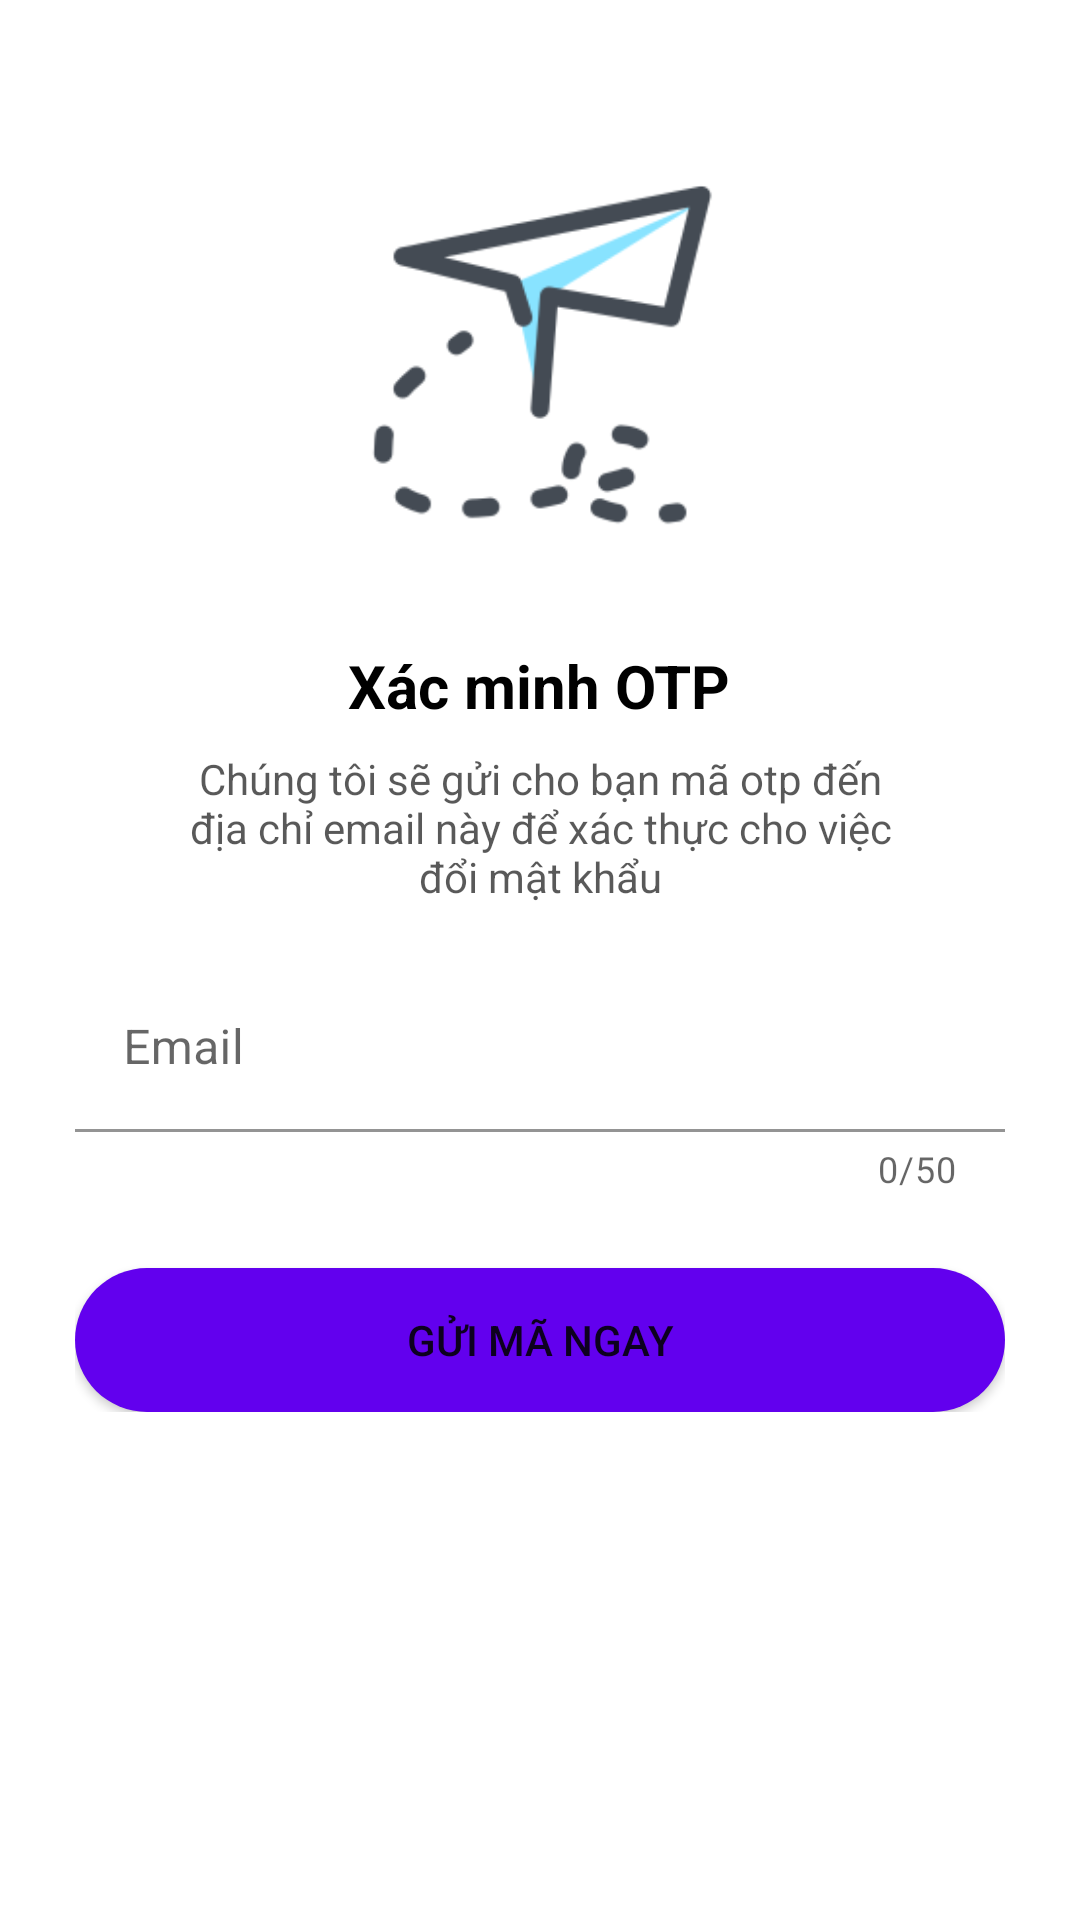

Named icons in this screenshot (1080×1920) and their centers, point (x, y):
paper plane: point (542, 355)
